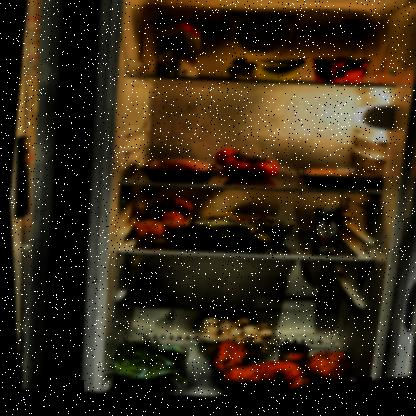banana: (224, 54, 307, 93)
beef: (286, 164, 380, 205)
green_beans: (99, 328, 193, 400)
ground_beef: (133, 152, 218, 195)
heavy_cream: (306, 211, 340, 263)
mushrooms: (189, 311, 281, 371)
onion: (121, 193, 193, 253)
spinach: (156, 201, 297, 270)
strawberries: (307, 55, 370, 98)
sweet_potato: (196, 330, 354, 400)
tomato: (206, 142, 283, 194)
